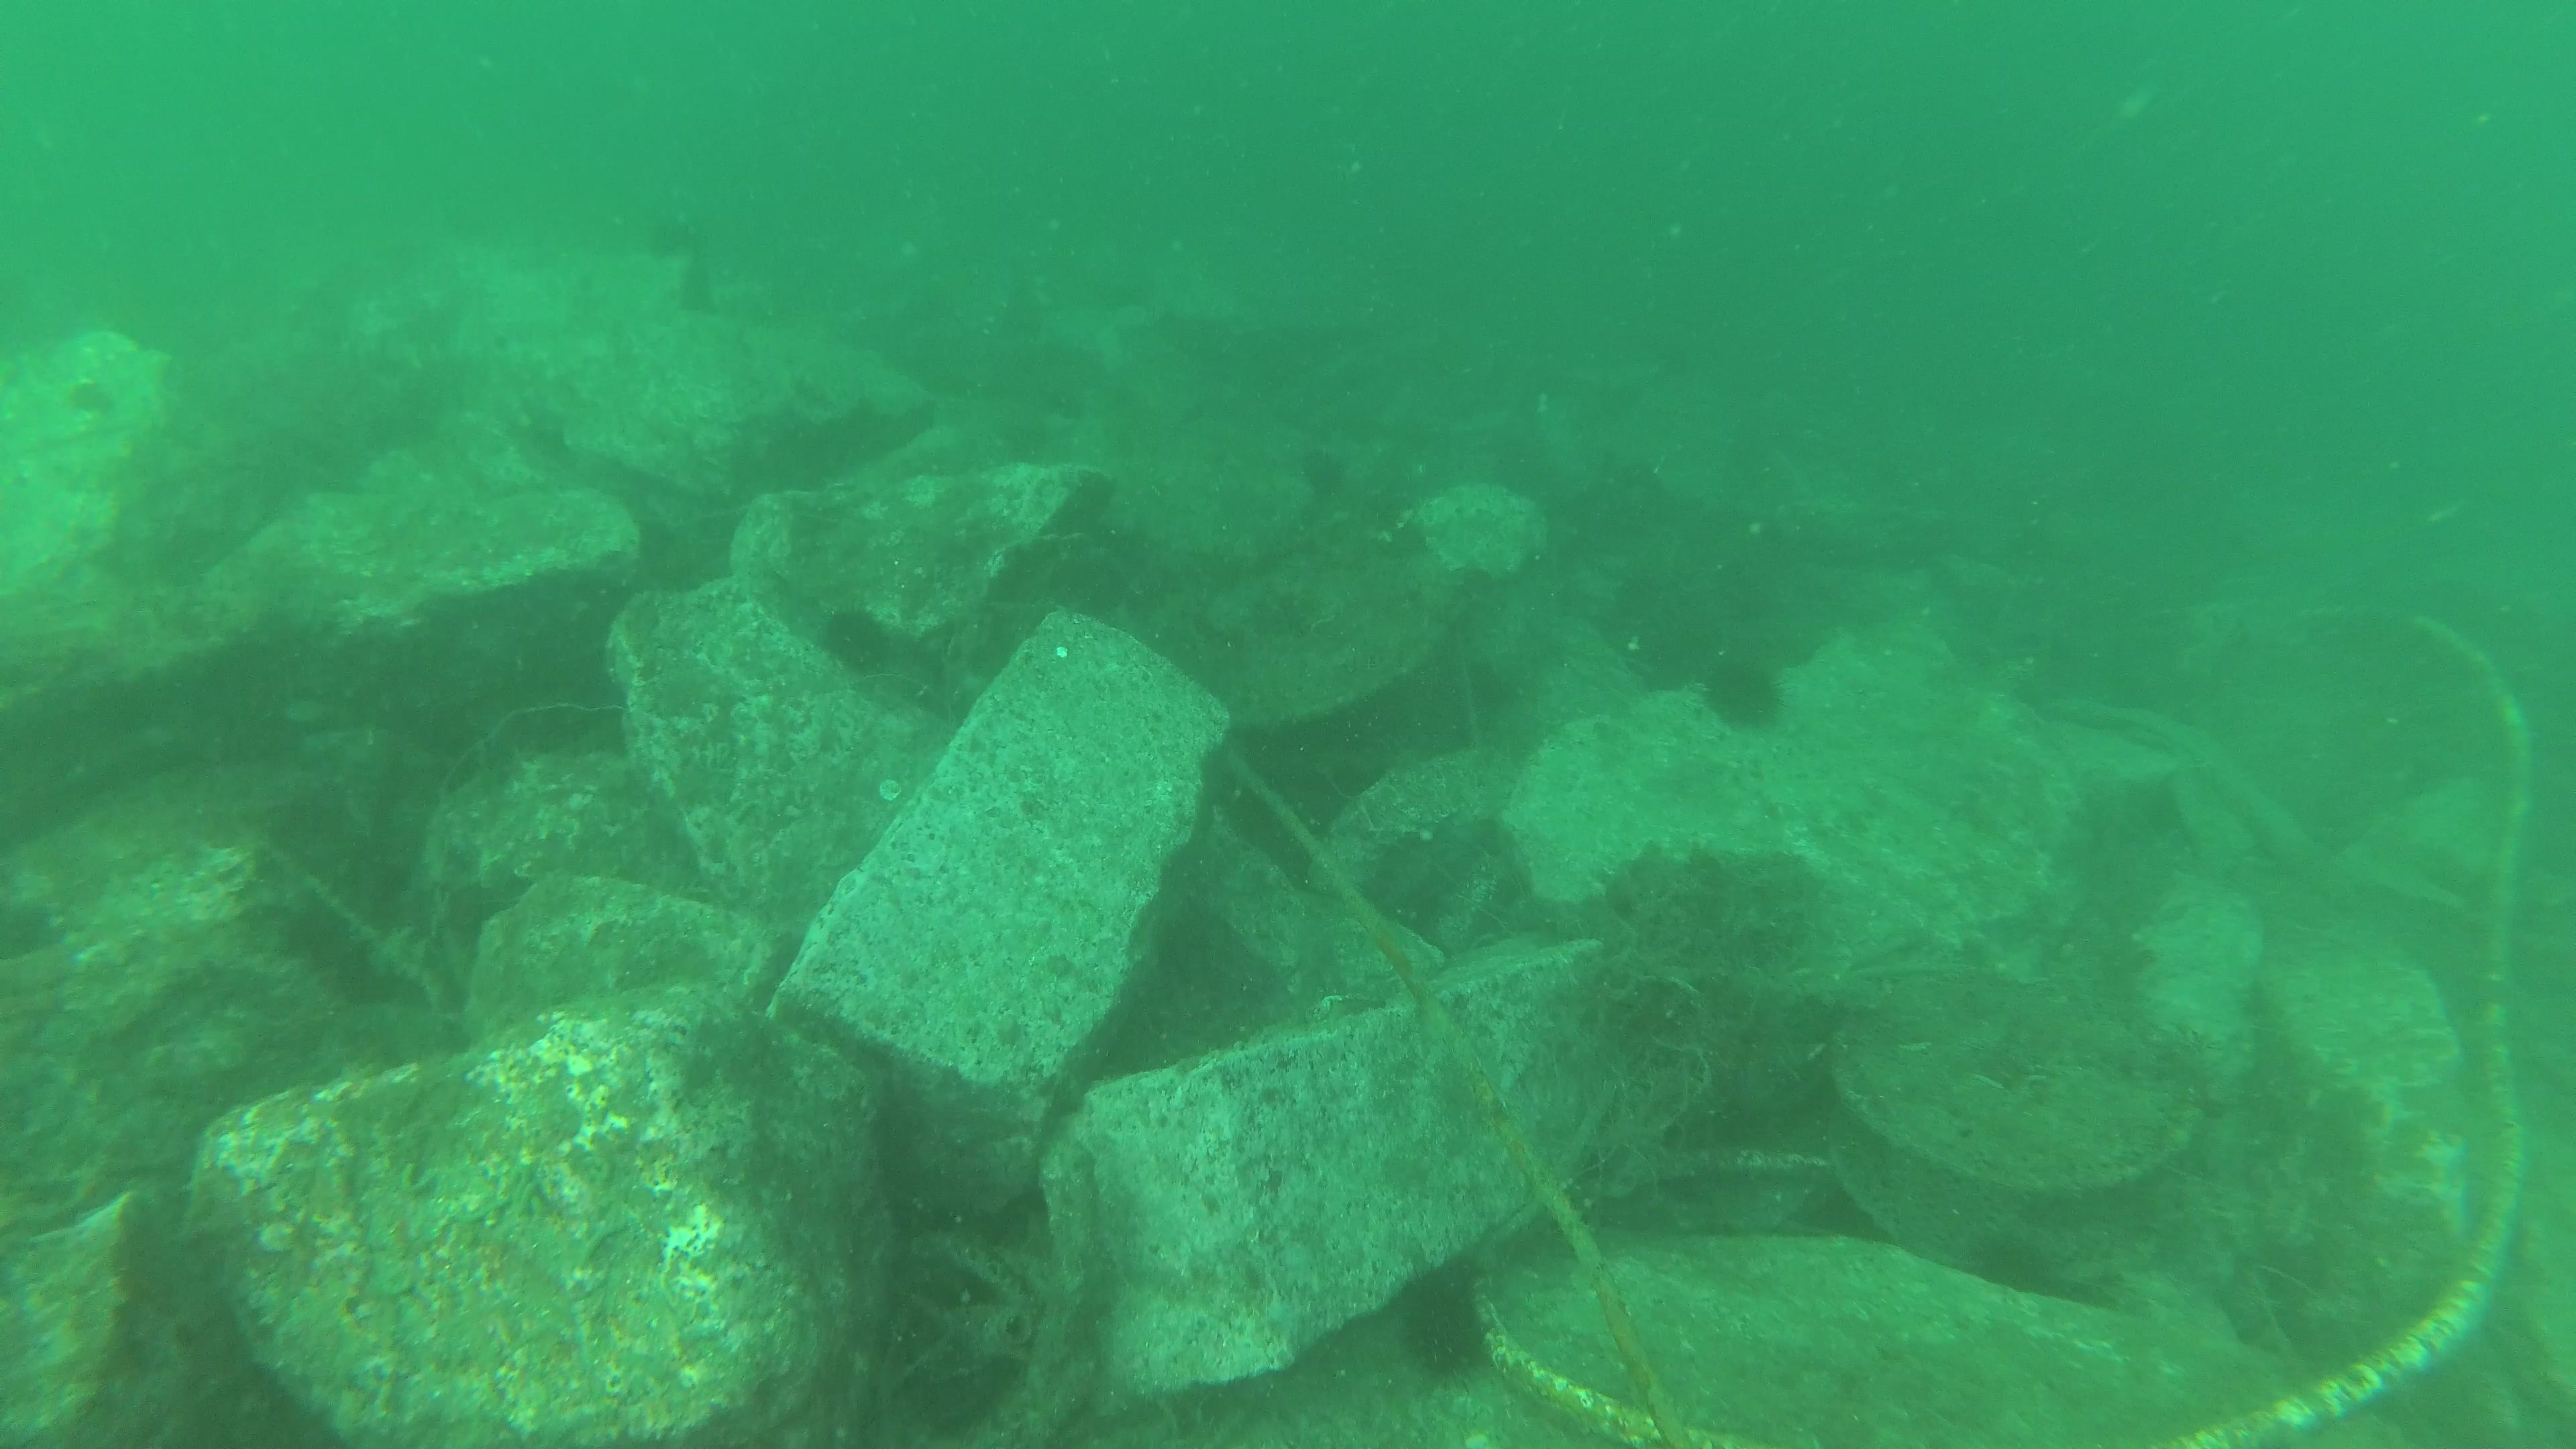echinus: (1394, 1256, 1493, 1380), (1691, 655, 1789, 732), (828, 598, 904, 678)
